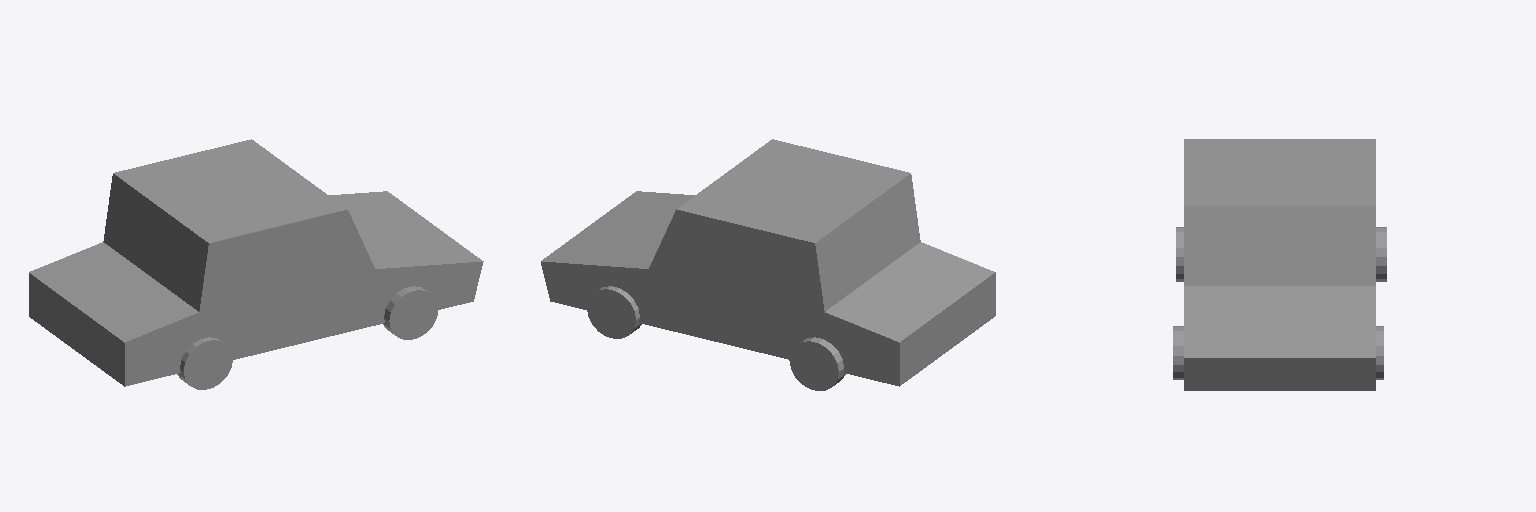
Rendered from car1.obj.
The picture shows the model from 3 angles: view 1: azimuth 30°, elevation 25°; view 2: azimuth 150°, elevation 25°; view 3: azimuth 270°, elevation 25°; orthographic projection.
Visible parts, largest first — view 1: Car_06.000; view 2: Car_06.000; view 3: Car_06.000.
Part boxes in pixels (left/top/right/bottom): Car_06.000: left=29, top=139, right=483, bottom=389; Car_06.000: left=541, top=139, right=995, bottom=390; Car_06.000: left=1173, top=139, right=1386, bottom=390.
Bounding box in the file's own units: 76.54 × 28.93 × 39.39.